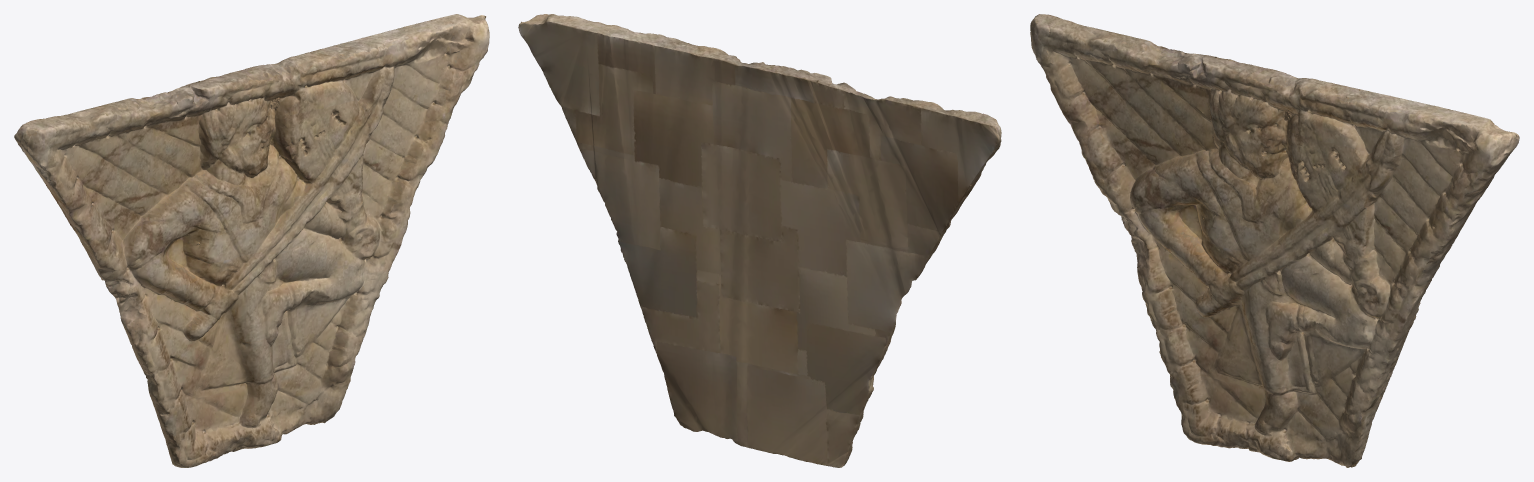
The model's file is preview.glb.
3 views of the same model, side by side, from view 1: azimuth 30°, elevation 25°; view 2: azimuth 150°, elevation 25°; view 3: azimuth 330°, elevation 25° (orthographic).
Parts seen in each view (by area): view 1: ADVIMG_25_120_593_SpandrelwithAMusician_DEC5M_EDIT_MASTER_n3; view 2: ADVIMG_25_120_593_SpandrelwithAMusician_DEC5M_EDIT_MASTER_n3; view 3: ADVIMG_25_120_593_SpandrelwithAMusician_DEC5M_EDIT_MASTER_n3.
Part boxes in pixels (bbox=[...]): ADVIMG_25_120_593_SpandrelwithAMusician_DEC5M_EDIT_MASTER_n3: bbox=[14, 14, 489, 467]; ADVIMG_25_120_593_SpandrelwithAMusician_DEC5M_EDIT_MASTER_n3: bbox=[518, 14, 1001, 467]; ADVIMG_25_120_593_SpandrelwithAMusician_DEC5M_EDIT_MASTER_n3: bbox=[1030, 14, 1519, 467].
Size of the model in its own units: 0.4833 by 0.37 by 0.0305.
1 material, 1 textured.
